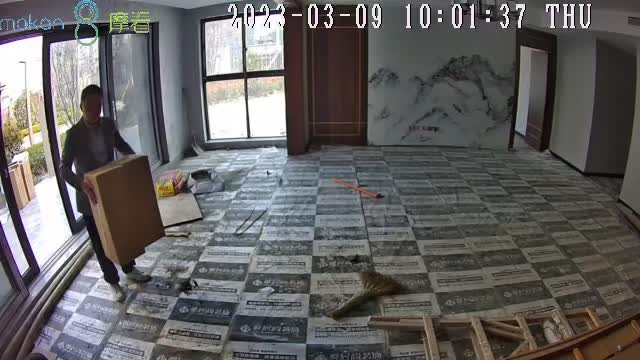people: (59, 84, 151, 301)
window: (1, 30, 161, 278), (202, 18, 288, 140)
